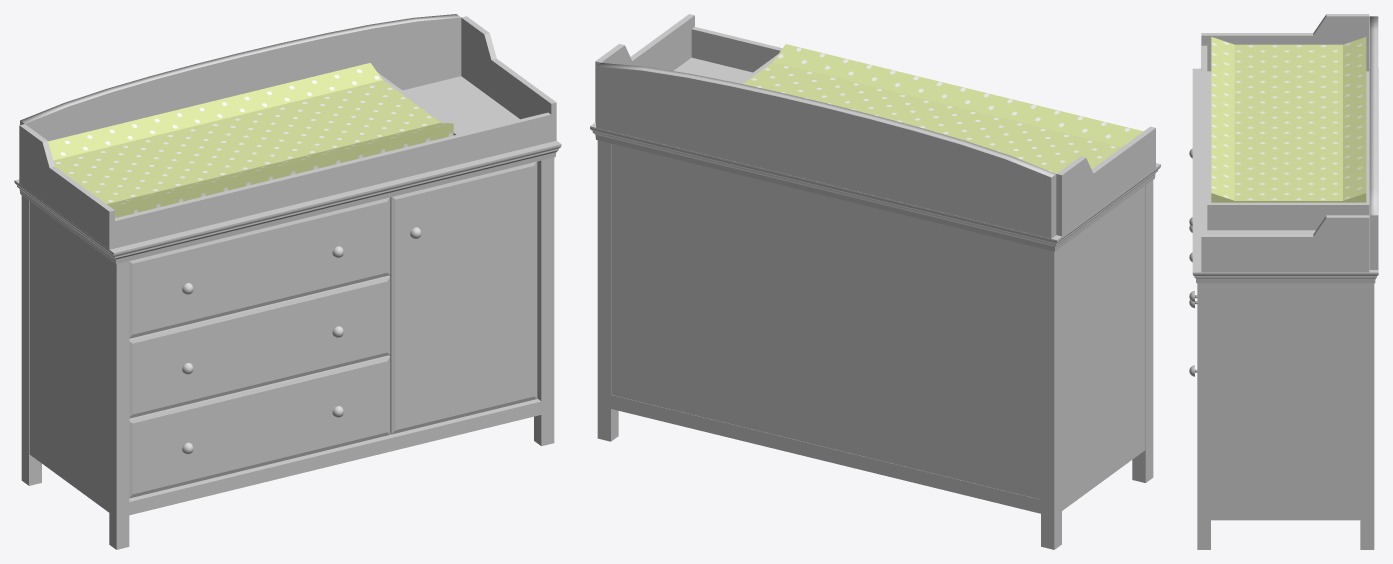
The model's file is changing-table.glb.
The picture shows the model from 3 angles, left to right: view 1: azimuth 30°, elevation 25°; view 2: azimuth 150°, elevation 25°; view 3: azimuth 270°, elevation 25°; orthographic projection. The views are drawn at different scales.
Visible parts, largest first — view 1: changing-table_Cube.001, plastic_Cube.011; view 2: changing-table_Cube.001, plastic_Cube.011; view 3: changing-table_Cube.001, plastic_Cube.011.
Boxes of the visible parts, left/top/right/bottom form: changing-table_Cube.001: left=14, top=14, right=561, bottom=549; plastic_Cube.011: left=48, top=63, right=453, bottom=217; changing-table_Cube.001: left=590, top=14, right=1160, bottom=549; plastic_Cube.011: left=743, top=44, right=1143, bottom=173; changing-table_Cube.001: left=1189, top=14, right=1378, bottom=549; plastic_Cube.011: left=1211, top=37, right=1366, bottom=202.
Size of the model in its own units: 1.23 by 0.9753 by 0.4816.
Materials: 2 (1 with a texture image).
